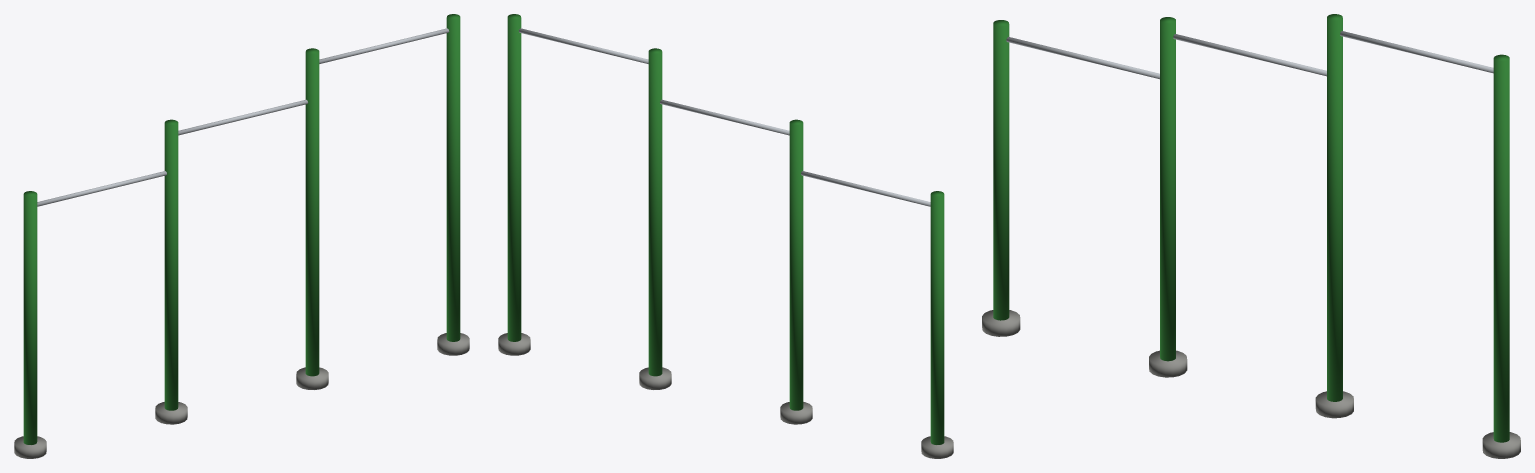
Rendered from fitness_pullup_bars.glb.
3 views of the same model, side by side, from view 1: azimuth 30°, elevation 25°; view 2: azimuth 150°, elevation 25°; view 3: azimuth 330°, elevation 25° (orthographic). The views are drawn at different scales.
Parts seen in each view (by area): view 1: PullUpBars; view 2: PullUpBars; view 3: PullUpBars.
Part boxes in pixels (x1,y1,x2,y2): PullUpBars: (14,14,469,458); PullUpBars: (498,14,953,458); PullUpBars: (982,14,1520,458).
Bounding box in the file's own units: 3.84 × 2.7 × 0.24.
